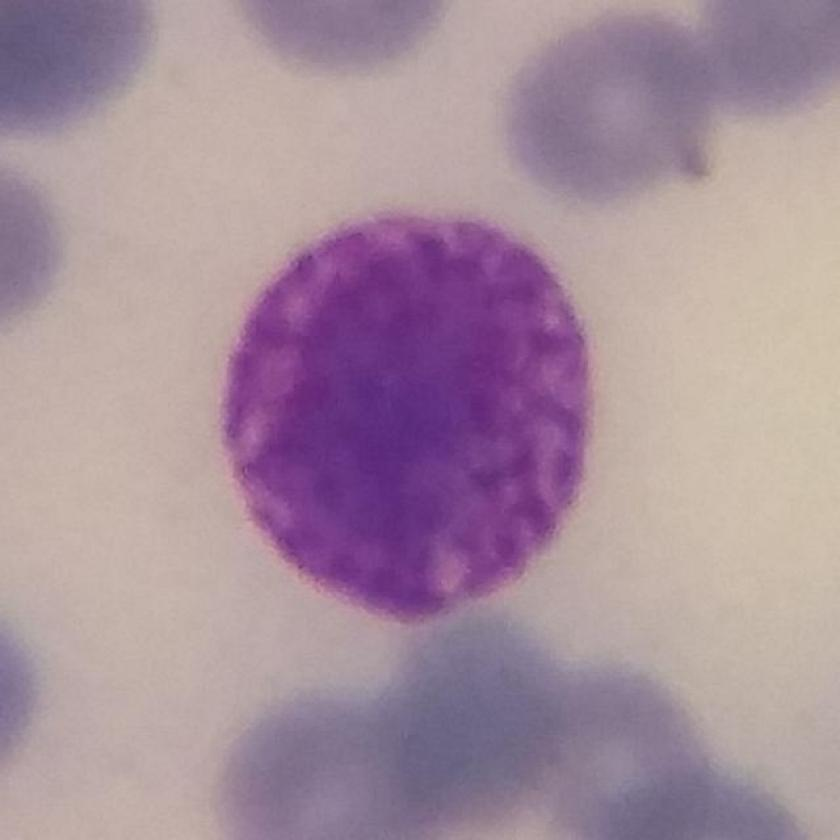basophil: (212, 204, 602, 629)
